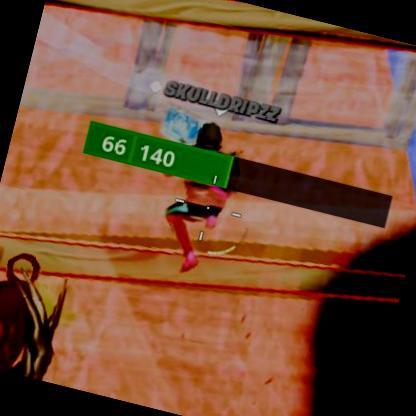person: (152, 99, 262, 268), (0, 244, 71, 380)
